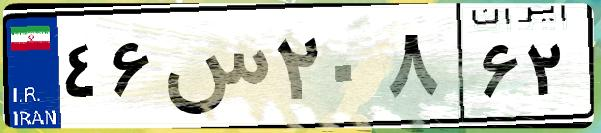0: (330, 28, 385, 110)
2: (270, 28, 330, 110), (525, 38, 570, 115)
4: (57, 26, 110, 100)
6: (475, 38, 525, 113), (110, 28, 158, 98)
8: (385, 28, 445, 110)
س: (158, 20, 270, 120)
